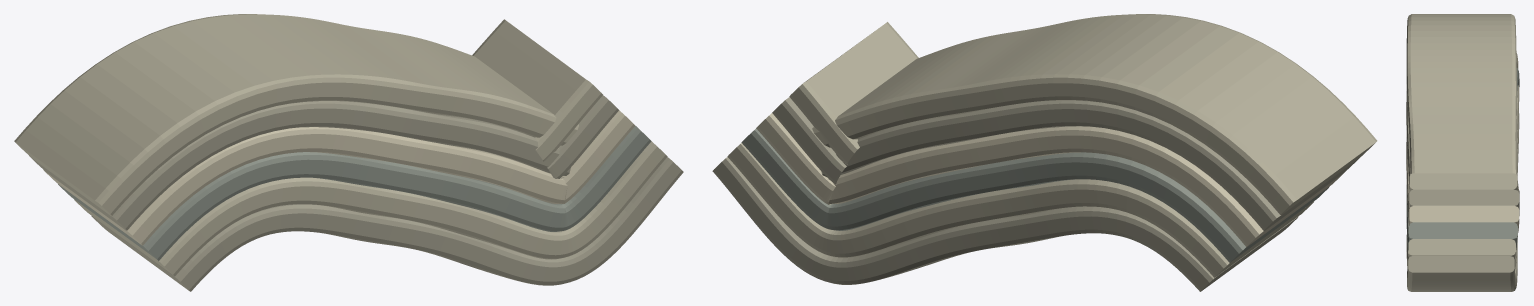
Rendered from folded-strata-outcrop.glb.
The picture shows the model from 3 angles, left to right: view 1: azimuth 30°, elevation 25°; view 2: azimuth 150°, elevation 25°; view 3: azimuth 270°, elevation 25°; orthographic projection. The views are drawn at different scales.
Parts seen in each view (by area): view 1: Continuous folded bed 06, Continuous folded bed 01, Continuous folded bed 02, Continuous folded bed 03, Continuous folded bed 04, Continuous folded bed 05; view 2: Continuous folded bed 06, Continuous folded bed 04, Continuous folded bed 01, Continuous folded bed 03, Continuous folded bed 02, Continuous folded bed 05; view 3: Continuous folded bed 06, Continuous folded bed 01, Continuous folded bed 04, Continuous folded bed 05, Continuous folded bed 02, Continuous folded bed 03.
Boxes of the visible parts, left/top/right/bottom form: Continuous folded bed 06: left=14, top=14, right=602, bottom=215; Continuous folded bed 01: left=91, top=157, right=683, bottom=291; Continuous folded bed 02: left=74, top=141, right=667, bottom=276; Continuous folded bed 03: left=58, top=126, right=651, bottom=260; Continuous folded bed 04: left=43, top=110, right=635, bottom=245; Continuous folded bed 05: left=29, top=95, right=618, bottom=230; Continuous folded bed 06: left=789, top=14, right=1377, bottom=214; Continuous folded bed 04: left=756, top=113, right=1343, bottom=246; Continuous folded bed 01: left=712, top=157, right=1298, bottom=291; Continuous folded bed 03: left=741, top=128, right=1328, bottom=262; Continuous folded bed 02: left=727, top=143, right=1314, bottom=277; Continuous folded bed 05: left=772, top=97, right=1359, bottom=230; Continuous folded bed 06: left=1406, top=14, right=1519, bottom=199; Continuous folded bed 01: left=1407, top=108, right=1519, bottom=291; Continuous folded bed 04: left=1406, top=53, right=1519, bottom=232; Continuous folded bed 05: left=1406, top=91, right=1519, bottom=215; Continuous folded bed 02: left=1406, top=85, right=1519, bottom=269; Continuous folded bed 03: left=1406, top=68, right=1519, bottom=250.
Bounding box in the file's own units: 0.95 × 0.4236 × 0.2568.
